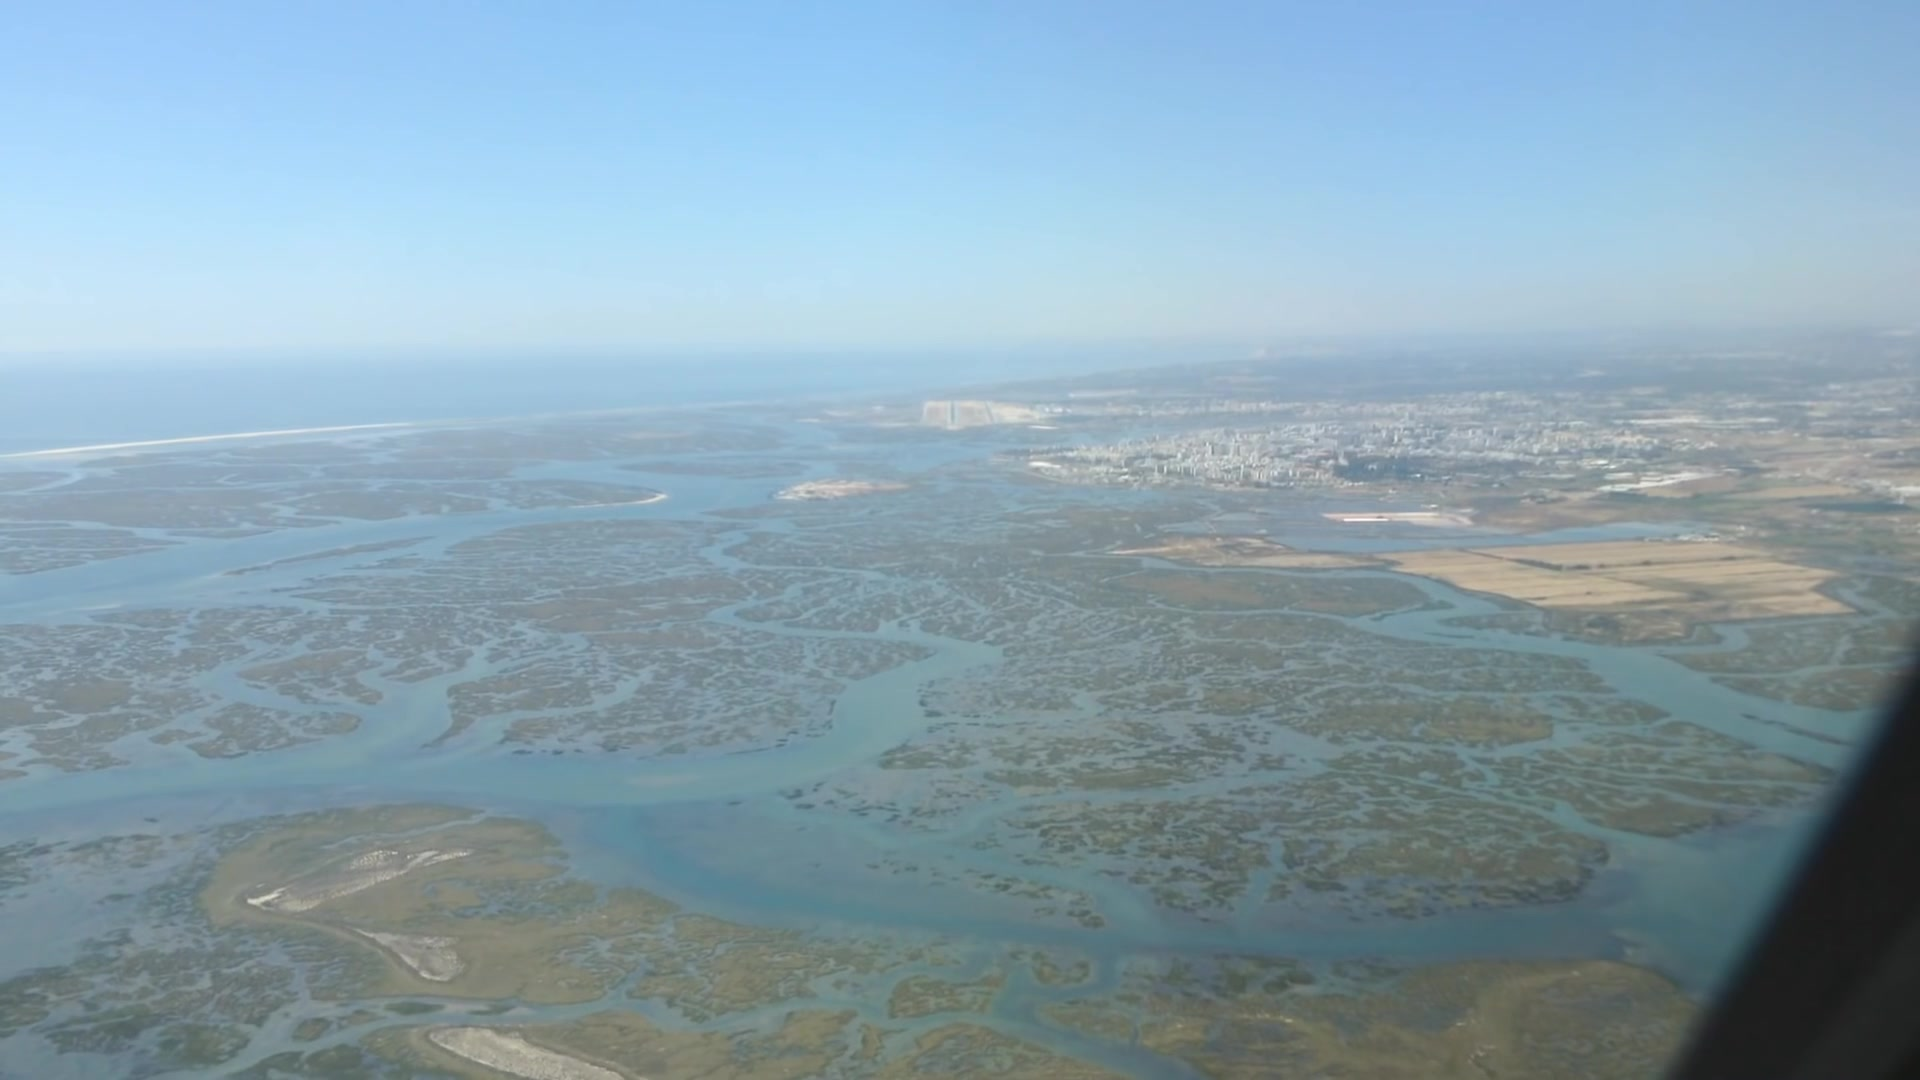runway: (945, 400, 961, 433), (980, 402, 1000, 426)
